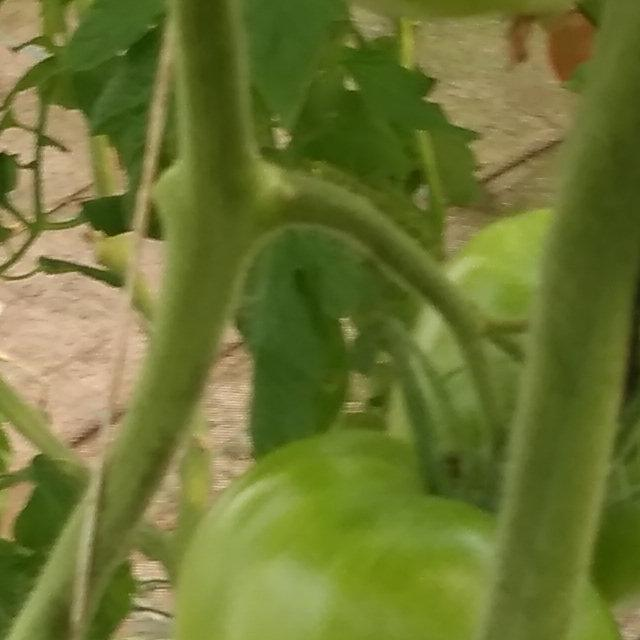tomato: (60, 0, 640, 490)
